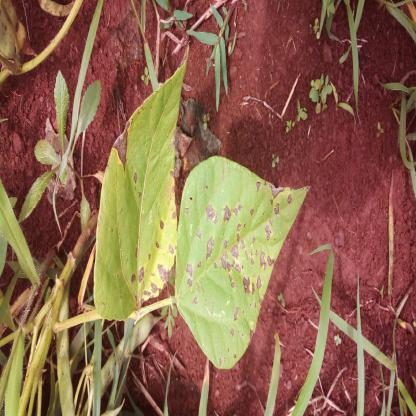Beans_Angular_LeafSpot: (178, 146, 310, 372), (109, 51, 182, 318)
